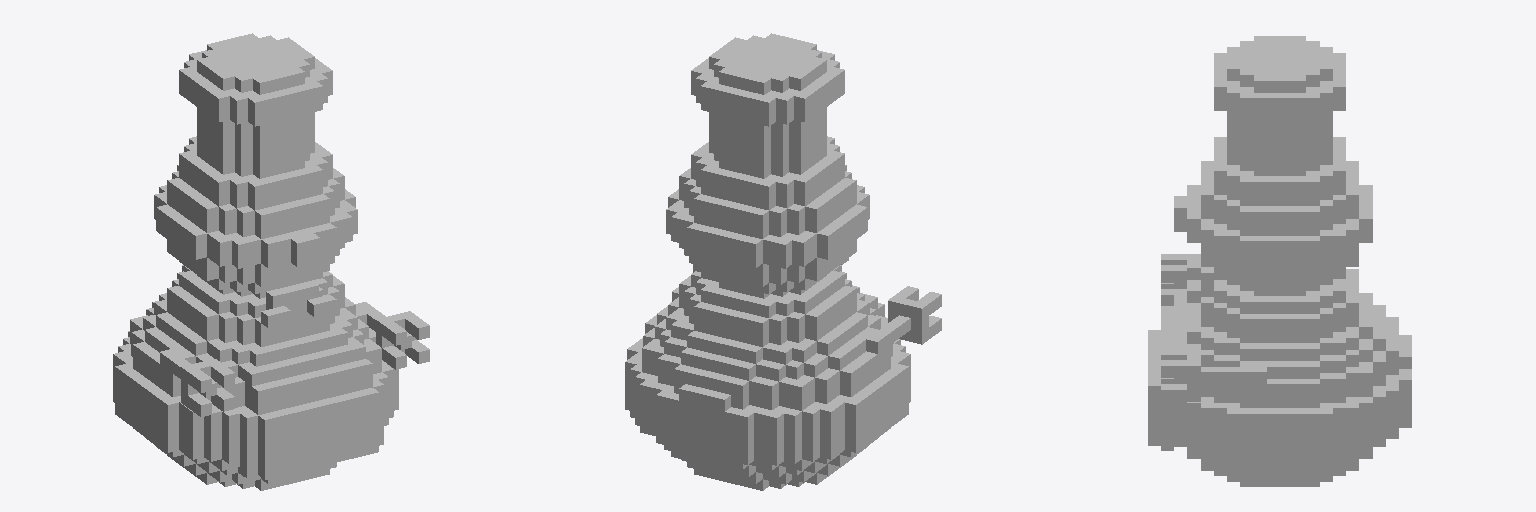
The model's file is Chef.obj.
3 renders of one model, left to right at view 1: azimuth 30°, elevation 25°; view 2: azimuth 150°, elevation 25°; view 3: azimuth 270°, elevation 25°, orthographic.
Visible parts, largest first — view 1: object 1; view 2: object 1; view 3: object 1.
Part boxes in pixels (x1,y1,x2,y2): object 1: (113,33,429,490); object 1: (625,33,941,490); object 1: (1148,36,1411,486).
Bounding box in the file's own units: 2 × 3.3 × 2.